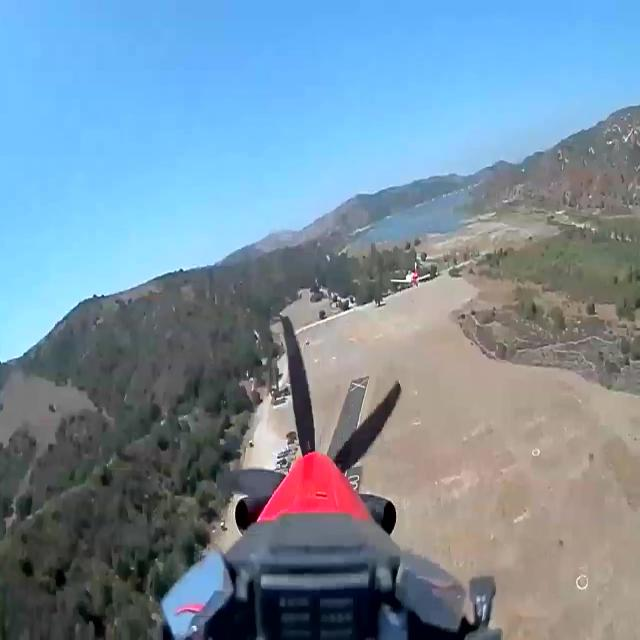iha: (390, 268, 430, 289)
